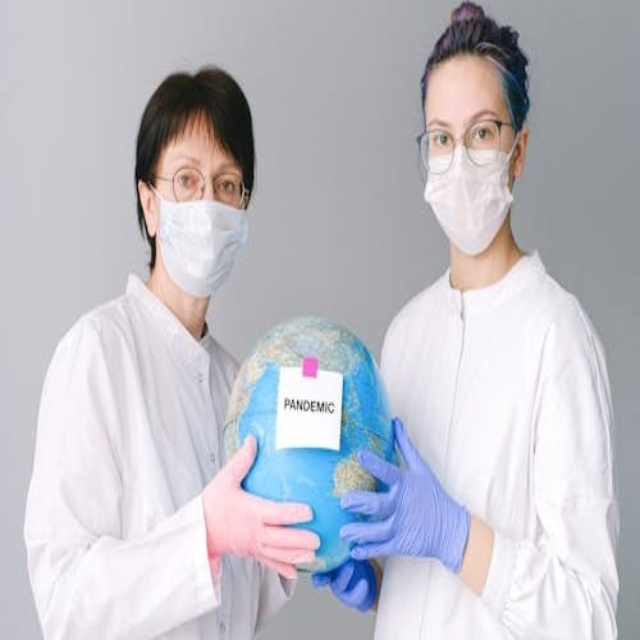Gafas: (417, 121, 519, 174), (150, 167, 251, 208)
Guantes: (338, 417, 471, 575), (205, 431, 320, 588), (311, 556, 378, 614)
Mascara: (422, 129, 519, 253), (152, 186, 249, 297)
